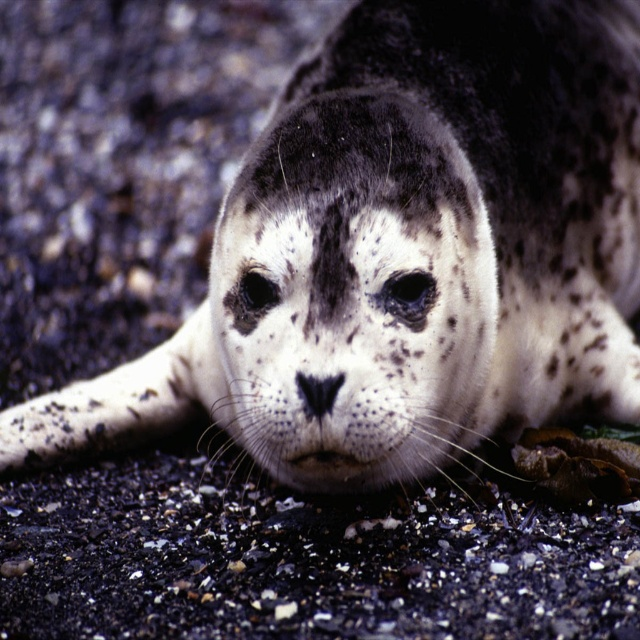Harbor seal: (0, 0, 640, 523)
